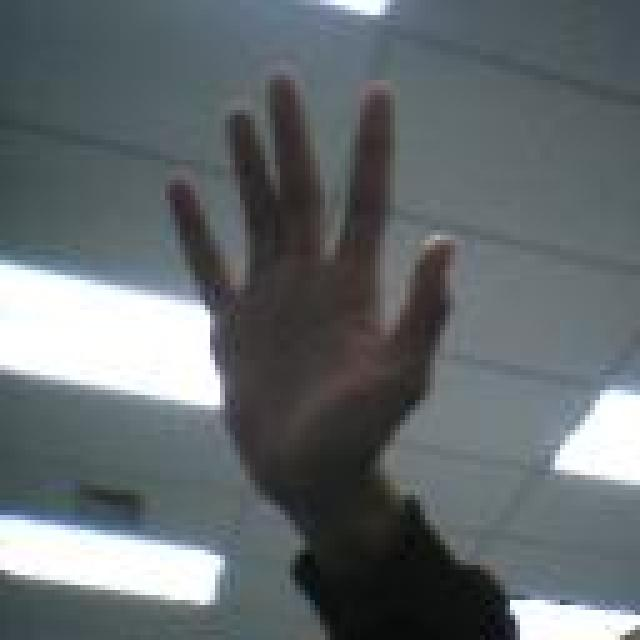hand: (160, 65, 460, 485)
